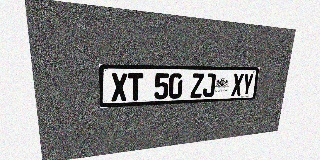0: (168, 73, 183, 99)
5: (154, 73, 169, 100)
J: (202, 73, 216, 97)
T: (128, 73, 143, 101)
X: (111, 73, 127, 102), (231, 73, 244, 96)
Y: (241, 73, 254, 96)
Z: (190, 73, 204, 98)
